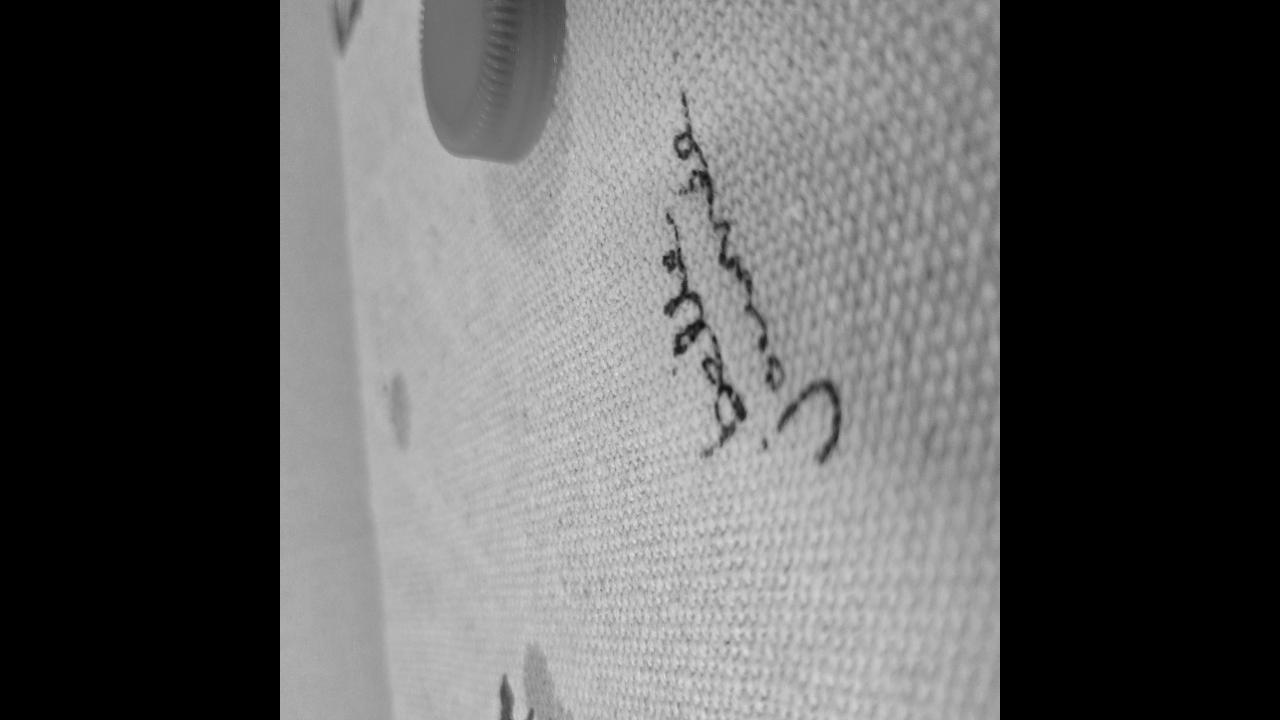bottle_cap: (419, 0, 565, 165)
